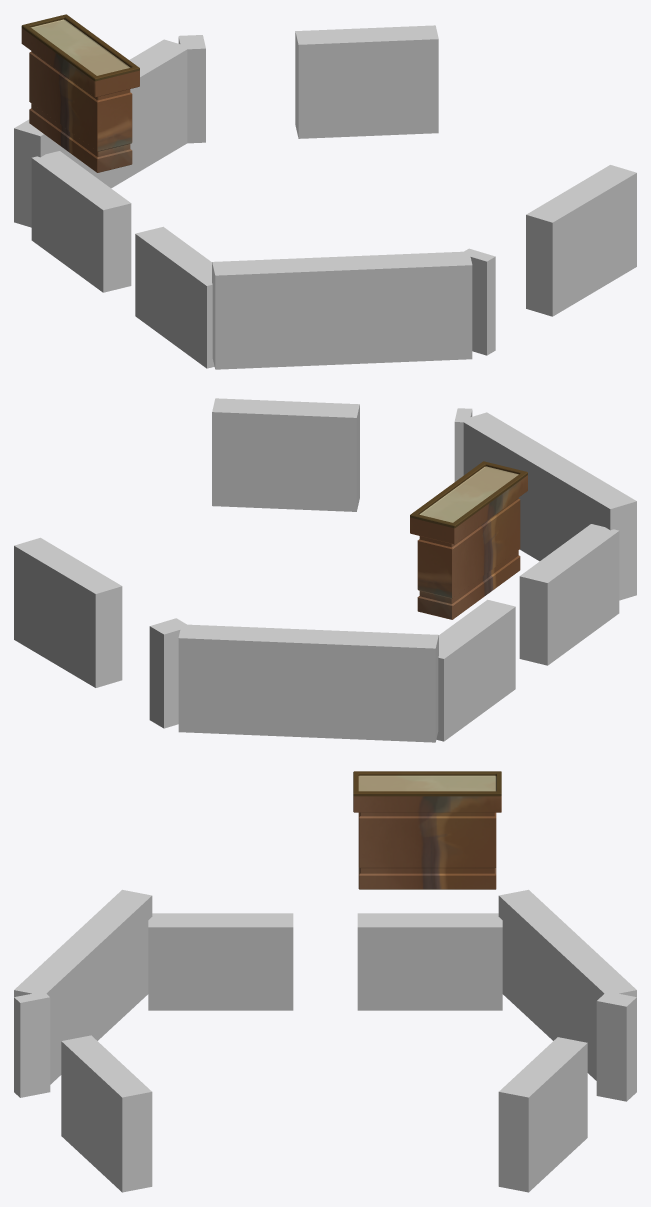
The model's file is City_Wall.fbx.
3 views of the same model, one above another, from view 1: azimuth 30°, elevation 25°; view 2: azimuth 150°, elevation 25°; view 3: azimuth 270°, elevation 25° (orthographic).
Visible parts, largest first — view 1: City_Wall_Blockout, City_Wall; view 2: City_Wall_Blockout, City_Wall; view 3: City_Wall_Blockout, City_Wall.
Part boxes in pixels (left/top/right/bottom): City_Wall_Blockout: left=14, top=25, right=636, bottom=369; City_Wall: left=21, top=14, right=139, bottom=172; City_Wall_Blockout: left=14, top=398, right=636, bottom=742; City_Wall: left=410, top=461, right=527, bottom=619; City_Wall_Blockout: left=14, top=889, right=636, bottom=1192; City_Wall: left=353, top=771, right=501, bottom=889.
Size of the model in its own units: 7248 by 3535 by 9057.
